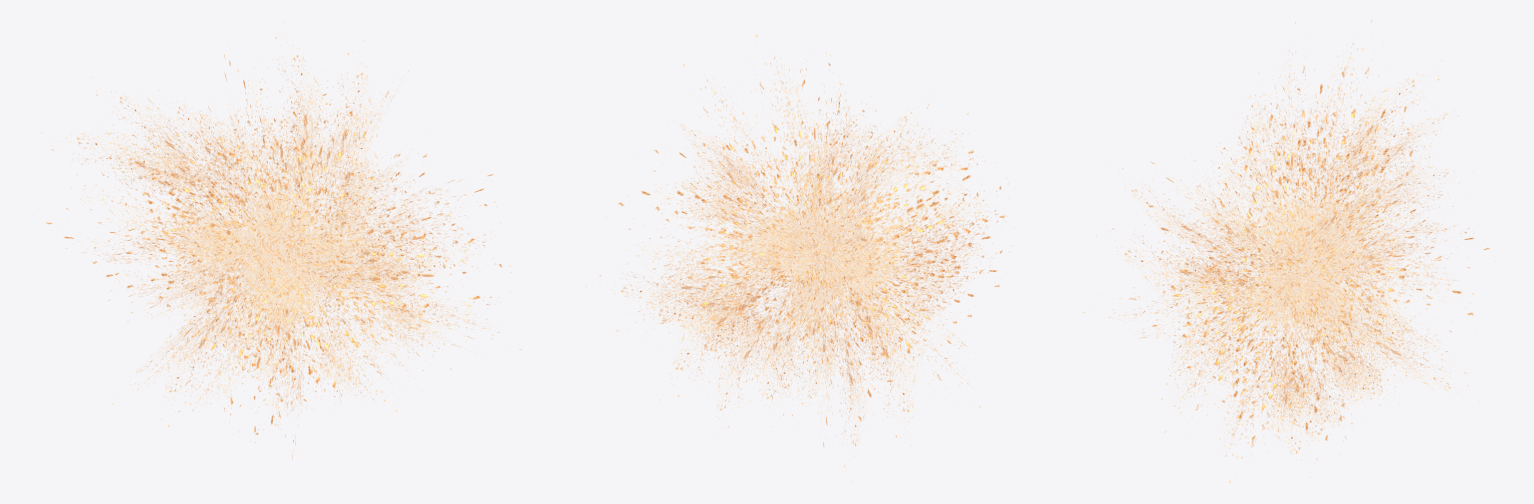
File: sparksexplosion.glb
3 renders of one model, left to right at view 1: azimuth 30°, elevation 25°; view 2: azimuth 150°, elevation 25°; view 3: azimuth 270°, elevation 25°, orthographic. The views are drawn at different scales.
Parts seen in each view (by area): view 1: Plane 1_0; view 2: Plane 1_0; view 3: Plane 1_0.
Boxes of the visible parts, box(x1,y1,x2,y2) form: Plane 1_0: box(41, 22, 521, 458); Plane 1_0: box(586, 34, 1013, 480); Plane 1_0: box(1083, 20, 1489, 482).
Size of the model in its own units: 1 by 0.9127 by 0.8711.
Materials: 1 (1 with a texture image).
